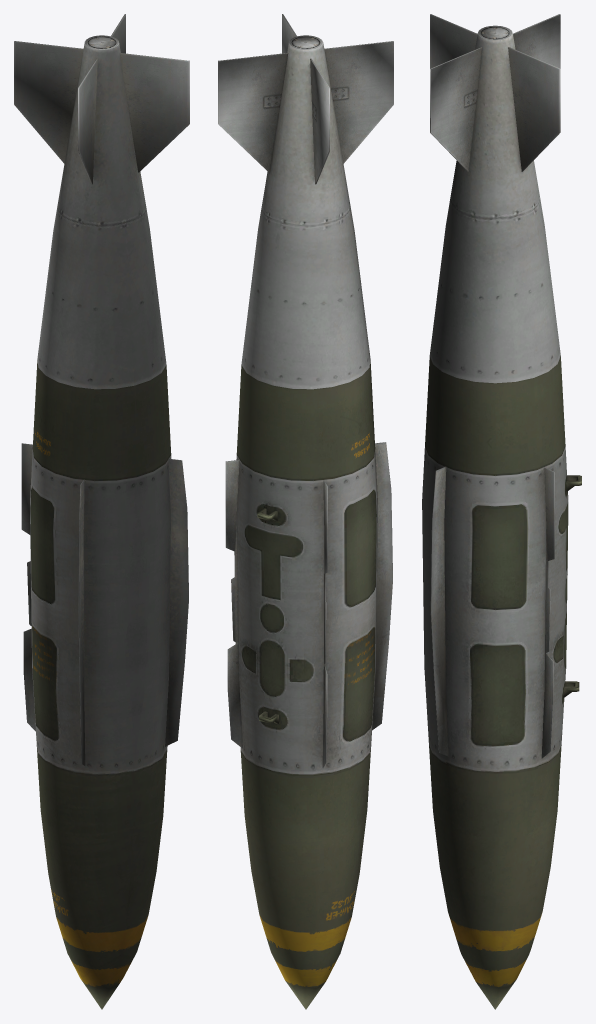
The model's file is jdam.glb.
The picture shows the model from 3 angles, left to right: view 1: azimuth 30°, elevation 25°; view 2: azimuth 150°, elevation 25°; view 3: azimuth 270°, elevation 25°; orthographic projection.
Parts seen in each view (by area): view 1: JDAM; view 2: JDAM; view 3: JDAM.
Boxes of the visible parts, x1,y1,x2,y2 form: JDAM: (14, 14, 189, 1009); JDAM: (218, 14, 393, 1009); JDAM: (422, 14, 581, 1009).
Bounding box in the file's own units: 0.326 × 2.4 × 0.356.
1 material, 1 textured.
